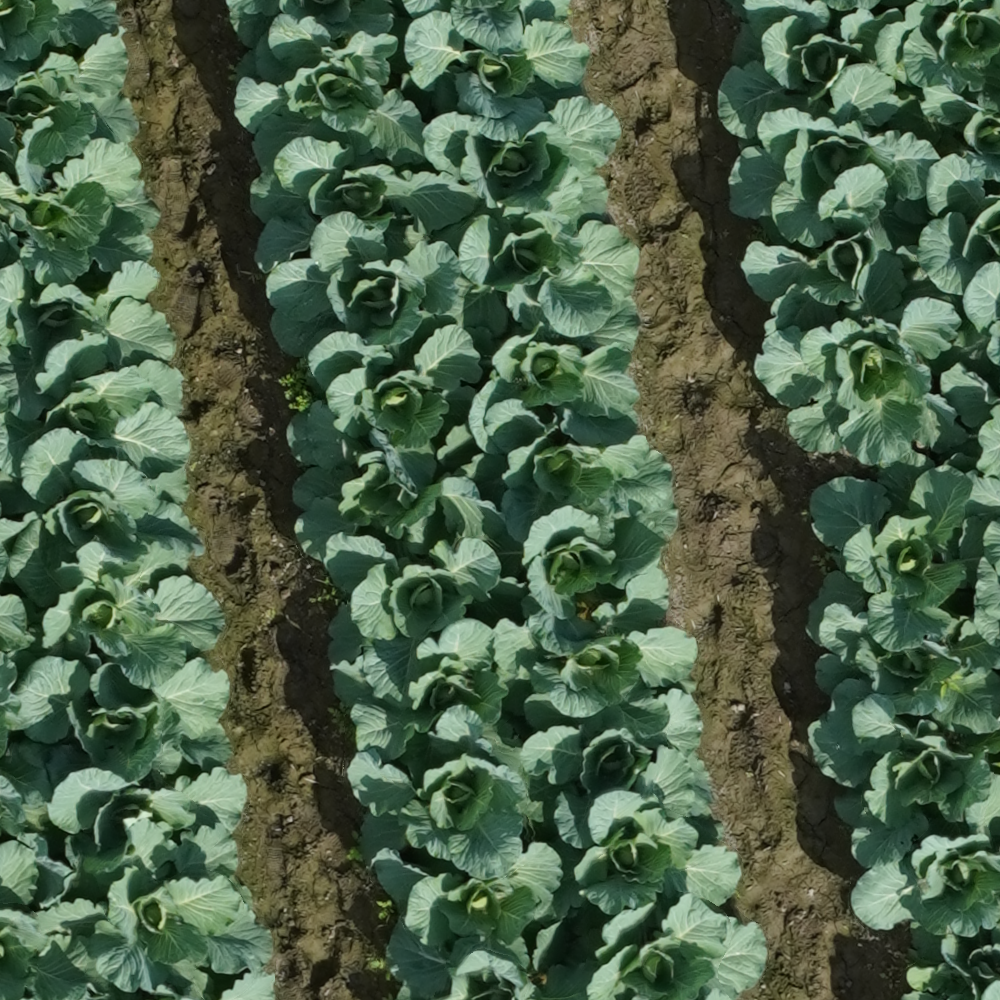Cabbage: (346, 706, 579, 879), (439, 397, 681, 560), (729, 67, 938, 252), (57, 824, 273, 1000), (756, 288, 966, 465), (0, 428, 207, 607), (809, 681, 1000, 867), (809, 447, 973, 661), (324, 534, 527, 701), (495, 571, 698, 737), (288, 322, 483, 490), (247, 136, 482, 274), (521, 689, 714, 849), (266, 214, 472, 362), (0, 327, 194, 484), (235, 14, 427, 171), (458, 172, 639, 338), (852, 761, 1000, 963), (29, 539, 224, 692), (424, 97, 620, 244), (15, 651, 227, 784), (469, 298, 642, 457), (1, 262, 176, 419), (372, 843, 564, 984), (547, 786, 740, 924), (48, 745, 246, 878), (330, 618, 509, 762), (718, 0, 904, 138), (404, 12, 590, 144), (0, 136, 160, 288), (534, 897, 765, 999), (814, 616, 1000, 732), (292, 462, 505, 561), (494, 502, 666, 621), (0, 25, 140, 167), (742, 233, 929, 336), (876, 1, 1000, 115), (920, 156, 1000, 297), (891, 86, 1000, 184), (0, 1, 120, 89), (402, 1, 569, 53), (228, 0, 393, 48), (905, 925, 1000, 1000)
